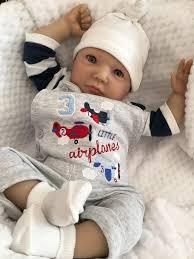opened: (80, 48, 127, 83)
